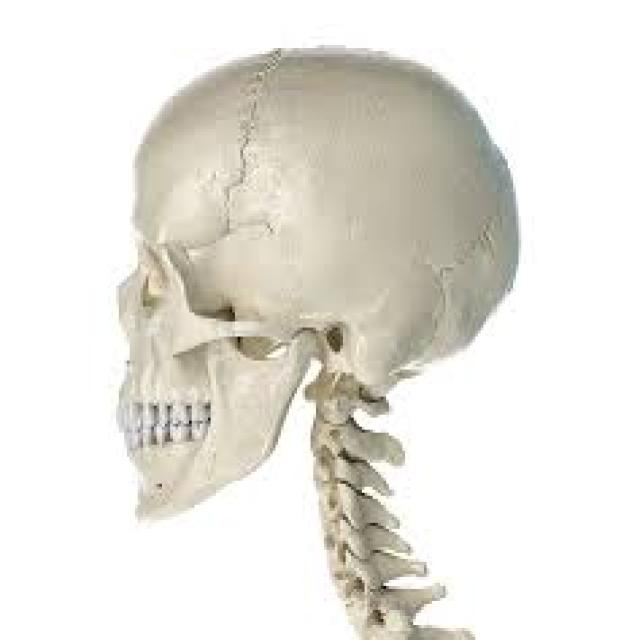skull: (102, 30, 538, 526)
